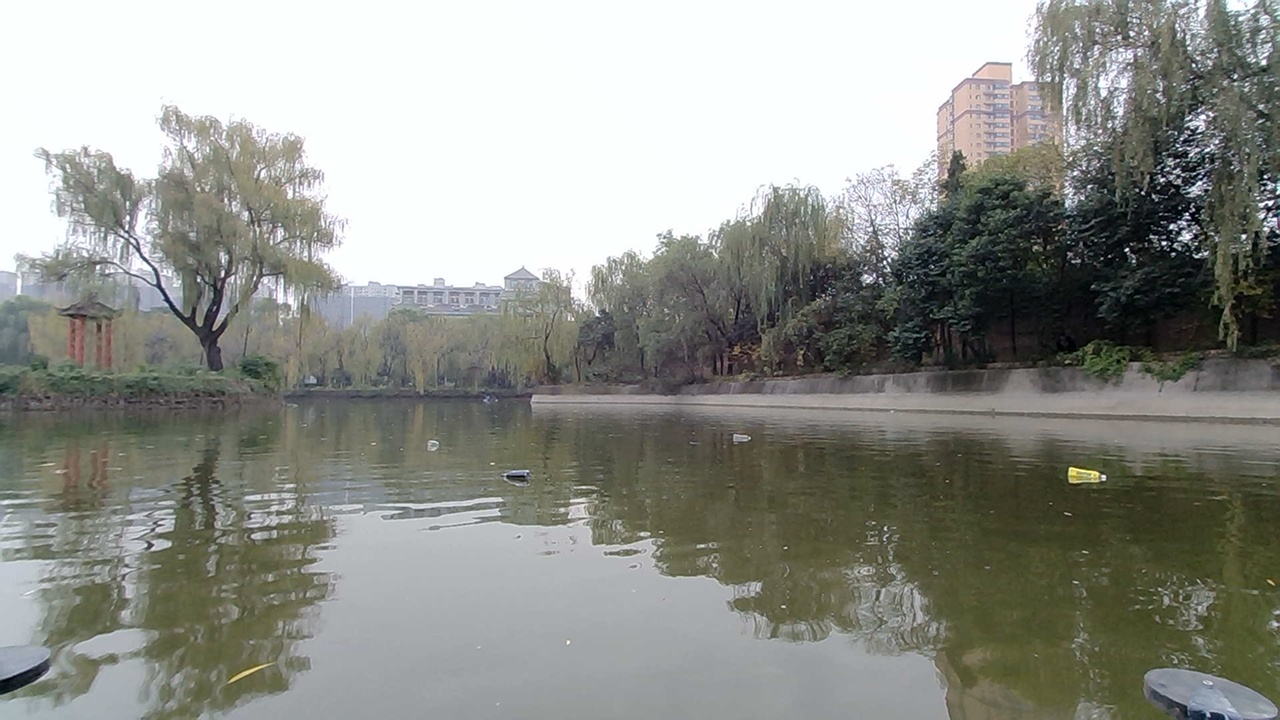bottle: (496, 460, 552, 498), (1064, 457, 1108, 491), (413, 436, 458, 465), (726, 418, 763, 441)
